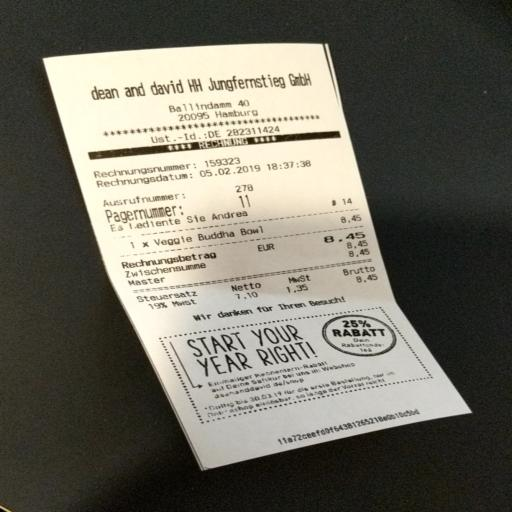paper: (16, 15, 512, 512)
